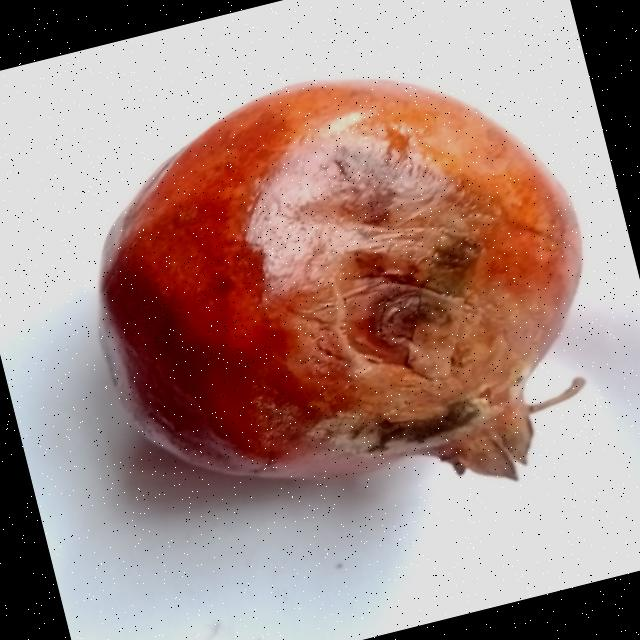Rotten: (37, 21, 639, 568)
